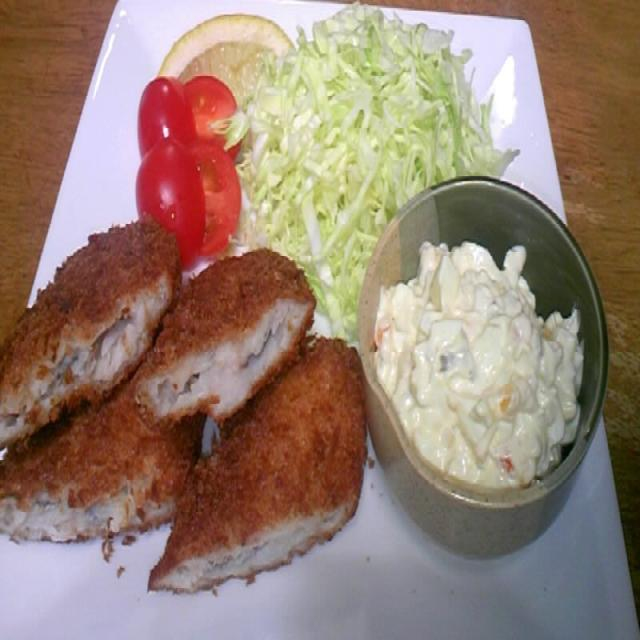炸货点心: (0, 202, 357, 598)
熟制海鲜: (0, 202, 357, 598)
